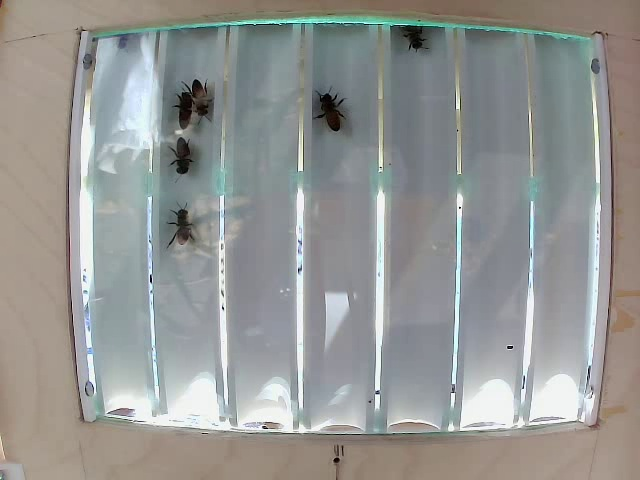bee: (167, 199, 212, 252), (177, 71, 221, 125), (154, 87, 197, 133), (314, 88, 353, 138), (170, 127, 203, 179), (397, 22, 427, 67)
